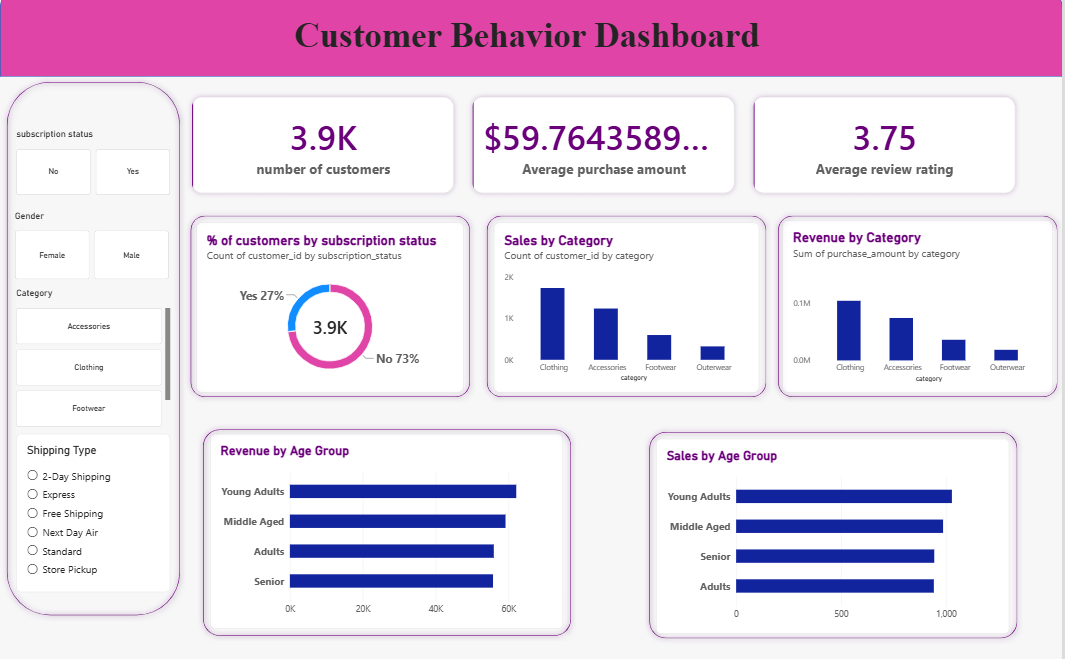

Layout of this report page (visuals, bound fields, positions):
{"tool":"powerbi","page":{"name":"Page 1","canvas":[1700,1100],"ordinal":0},"visuals":[{"type":"cardVisual","fields":{"Data":["public customer.number of customers","public customer.Average purchase amount","public customer.Average review rating"]},"box":[295,168.3,1341.7,176.7],"z":0},{"type":"shape","box":[0,0,1700,146.7],"z":1000},{"type":"textbox","box":[385,25,928.3,98.3],"z":2000},{"type":"donutChart","title":"% of customers by subscription status","fields":{"Category":["public customer.subscription_status"],"Y":["CountNonNull(public customer.customer_id)"]},"box":[313.3,380,428.3,271.7],"z":3000},{"type":"clusteredColumnChart","title":"Revenue by Category","fields":{"Category":["public customer.category"],"Y":["Sum(public customer.purchase_amount)"]},"box":[1251.7,375,431.7,276.7],"z":4000},{"type":"clusteredColumnChart","title":"Sales by Category","fields":{"Category":["public customer.category"],"Y":["CountNonNull(public customer.customer_id)"]},"box":[790,380,425,271.7],"z":5000},{"type":"shape","box":[1.7,146.7,295,871.7],"z":6000},{"type":"advancedSlicerVisual","fields":{"Values":["public customer.category"]},"box":[26.7,483.3,246.7,223.3],"z":7000},{"type":"advancedSlicerVisual","fields":{"Values":["public customer.gender"]},"box":[24,360,246.7,111.7],"z":8000},{"type":"listSlicer","fields":{"Values":["public customer.shipping_type"]},"box":[26.7,718.3,246.7,253.3],"z":9000},{"type":"clusteredBarChart","title":"Revenue by Age Group","fields":{"Category":["public customer.age_group"],"Y":["Sum(public customer.purchase_amount)"]},"box":[335,718.3,565,311.7],"z":10000},{"type":"shape","box":[296.7,360,465,308.3],"z":11000},{"type":"shape","box":[770,360,465,308.3],"z":12000},{"type":"shape","box":[1235,360,465,308.3],"z":13000},{"type":"shape","box":[315,701.7,606.7,348.3],"z":14000},{"type":"advancedSlicerVisual","fields":{"Values":["public customer.subscription_status"]},"box":[25,229,246.7,106.7],"z":15000},{"type":"shape","box":[1030,706.7,606.7,348.3],"z":15001},{"type":"clusteredBarChart","title":"Sales by Age Group","fields":{"Category":["public customer.age_group"],"Y":["CountNonNull(public customer.customer_id)"]},"box":[1050,726.7,565,311.7],"z":15002}]}

Visuals, with their boxes on the page's 1700x1100 design canvas (x1, y1, x2, y2). These are canvas units, not pixel positions in the 1065x659 screenshot, which may show the page scaled, cropped or inside an application window:
cardVisual - public customer.number of customers x public customer.Average purchase amount: box=[295, 168, 1637, 345]
shape: box=[0, 0, 1700, 147]
textbox: box=[385, 25, 1313, 123]
"% of customers by subscription status" donutChart: box=[313, 380, 742, 652]
"Revenue by Category" clusteredColumnChart: box=[1252, 375, 1683, 652]
"Sales by Category" clusteredColumnChart: box=[790, 380, 1215, 652]
shape: box=[2, 147, 297, 1018]
advancedSlicerVisual - public customer.category: box=[27, 483, 273, 707]
advancedSlicerVisual - public customer.gender: box=[24, 360, 271, 472]
listSlicer - public customer.shipping_type: box=[27, 718, 273, 972]
"Revenue by Age Group" clusteredBarChart: box=[335, 718, 900, 1030]
shape: box=[297, 360, 762, 668]
shape: box=[770, 360, 1235, 668]
shape: box=[1235, 360, 1700, 668]
shape: box=[315, 702, 922, 1050]
advancedSlicerVisual - public customer.subscription_status: box=[25, 229, 272, 336]
shape: box=[1030, 707, 1637, 1055]
"Sales by Age Group" clusteredBarChart: box=[1050, 727, 1615, 1038]
